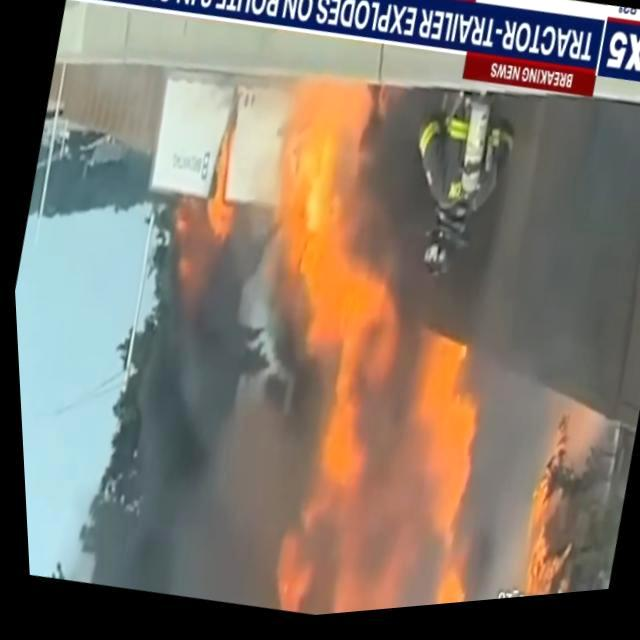fire: (244, 306, 536, 624), (216, 70, 438, 406), (494, 502, 588, 606)
